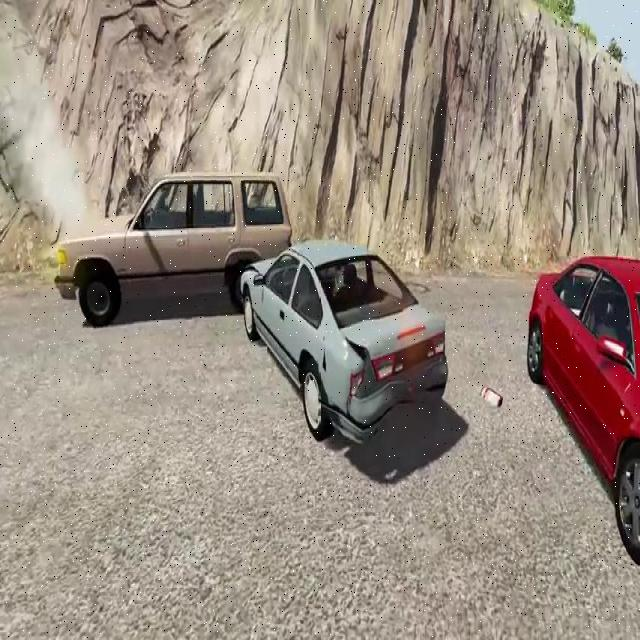moderate: (51, 159, 454, 457)
